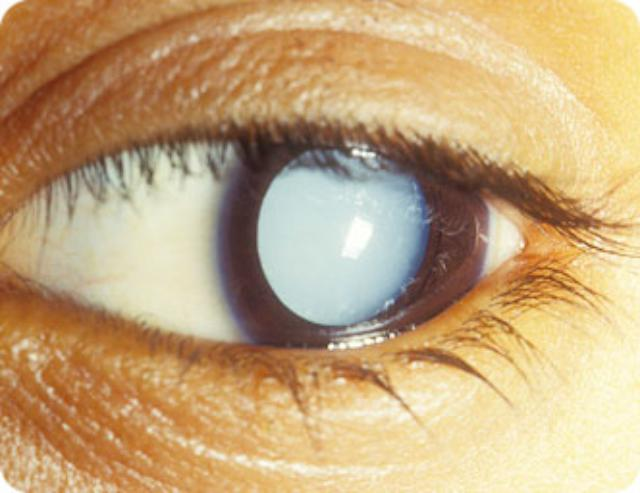eye: (211, 129, 491, 349)
